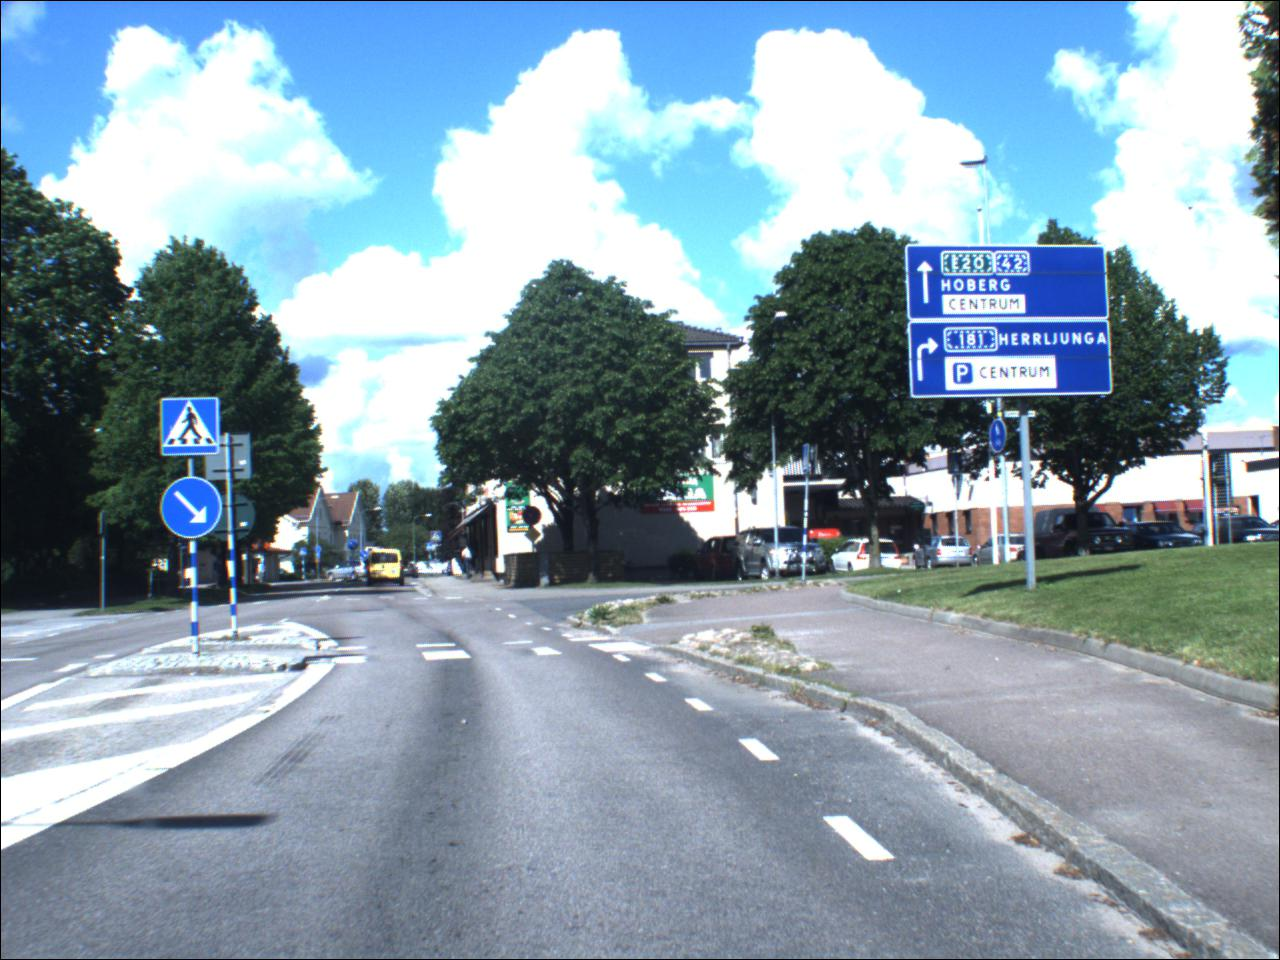NO_STOPPING_NO_STANDING: (524, 507, 546, 529)
PASS_RIGHT_SIDE: (161, 478, 226, 542), (350, 541, 362, 553), (362, 552, 371, 561)
PEDESTRIAN_CROSSING: (162, 397, 223, 458), (805, 446, 811, 476), (433, 532, 446, 545), (427, 543, 437, 553), (301, 549, 310, 559)
PRIORITY_ROAD: (525, 529, 544, 547)
